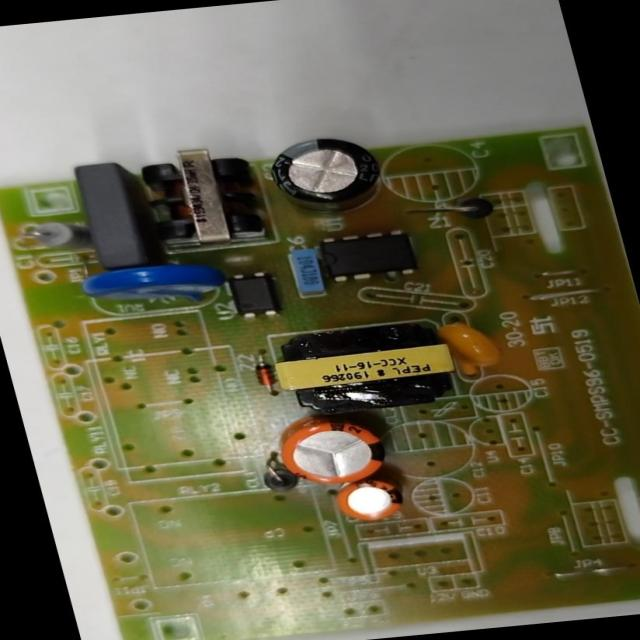Cap1: (272, 418, 394, 490)
Cap2: (332, 478, 407, 523)
Cap3: (264, 134, 381, 216)
MOSFET: (318, 230, 413, 282)
Mov: (78, 259, 219, 310)
Resistor: (26, 220, 96, 260)
Transformer: (276, 321, 460, 414), (136, 142, 270, 248)
